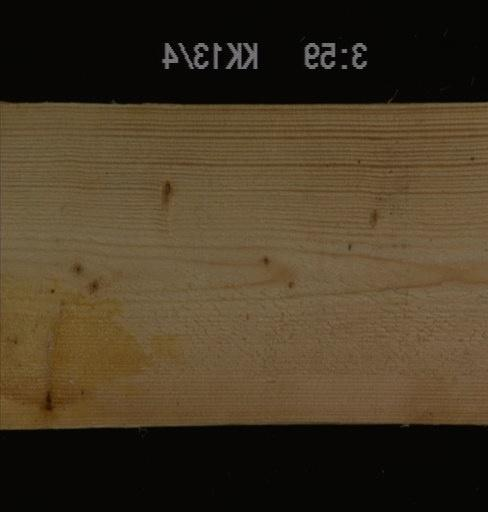small_knot: (157, 177, 175, 215), (368, 205, 381, 228), (260, 253, 272, 267)
